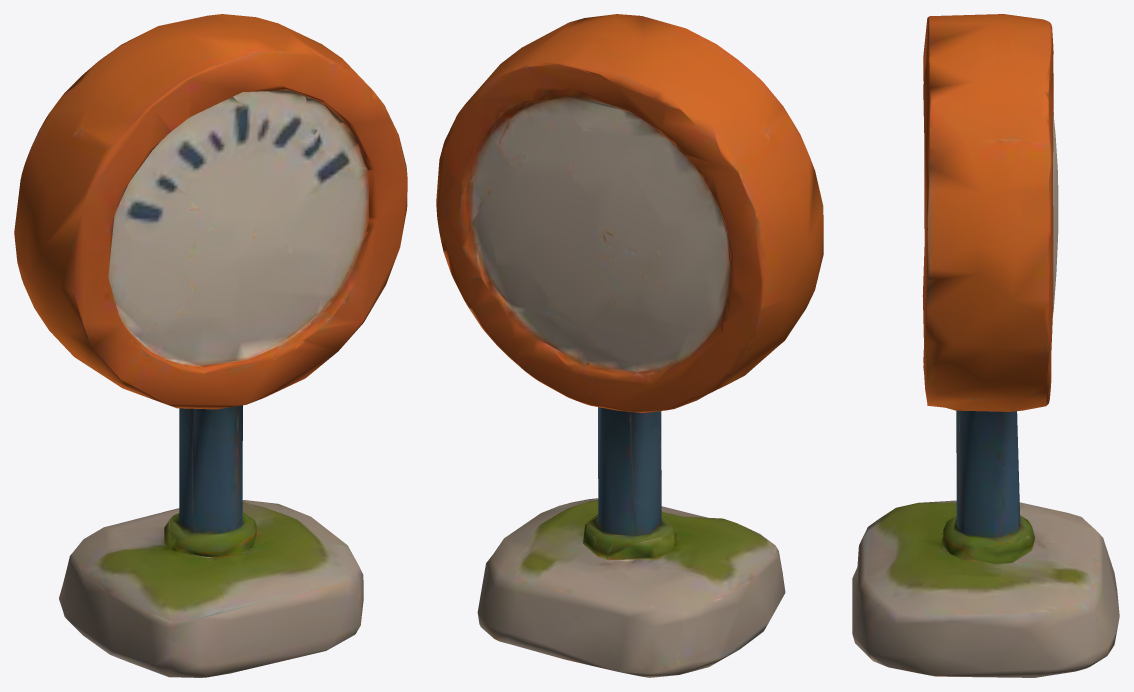
The model's file is roche-dial.lod.glb.
3 renders of one model, left to right at view 1: azimuth 30°, elevation 25°; view 2: azimuth 150°, elevation 25°; view 3: azimuth 270°, elevation 25°, orthographic.
Visible parts, largest first — view 1: textured_mesh.obj; view 2: textured_mesh.obj; view 3: textured_mesh.obj.
Part boxes in pixels (box(x1,y1,x2,y2)): textured_mesh.obj: box(14, 14, 407, 677); textured_mesh.obj: box(436, 14, 823, 677); textured_mesh.obj: box(852, 14, 1119, 677).
Size of the model in its own units: 0.6209 by 0.9974 by 0.4093.
Materials: 1 (1 with a texture image).
